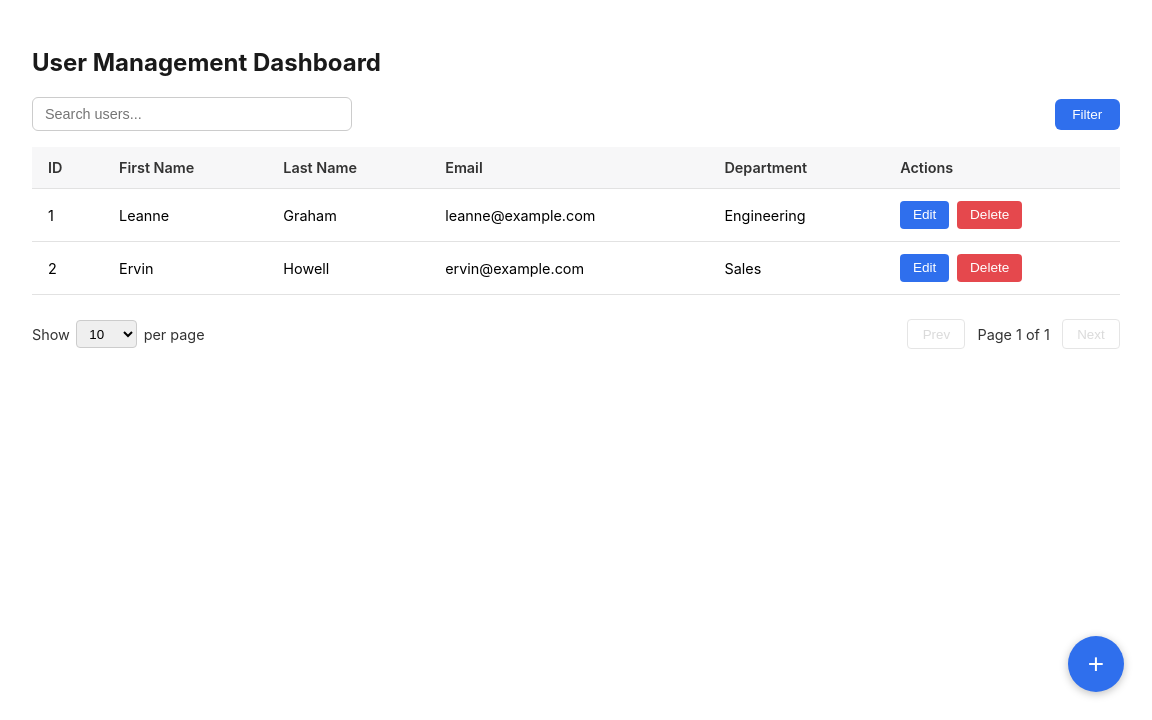
App - Filter › filters the table when a filter is applied
Click the button "Filter" at (1087, 114), box x1=1055 y1=99 x2=1120 y2=130
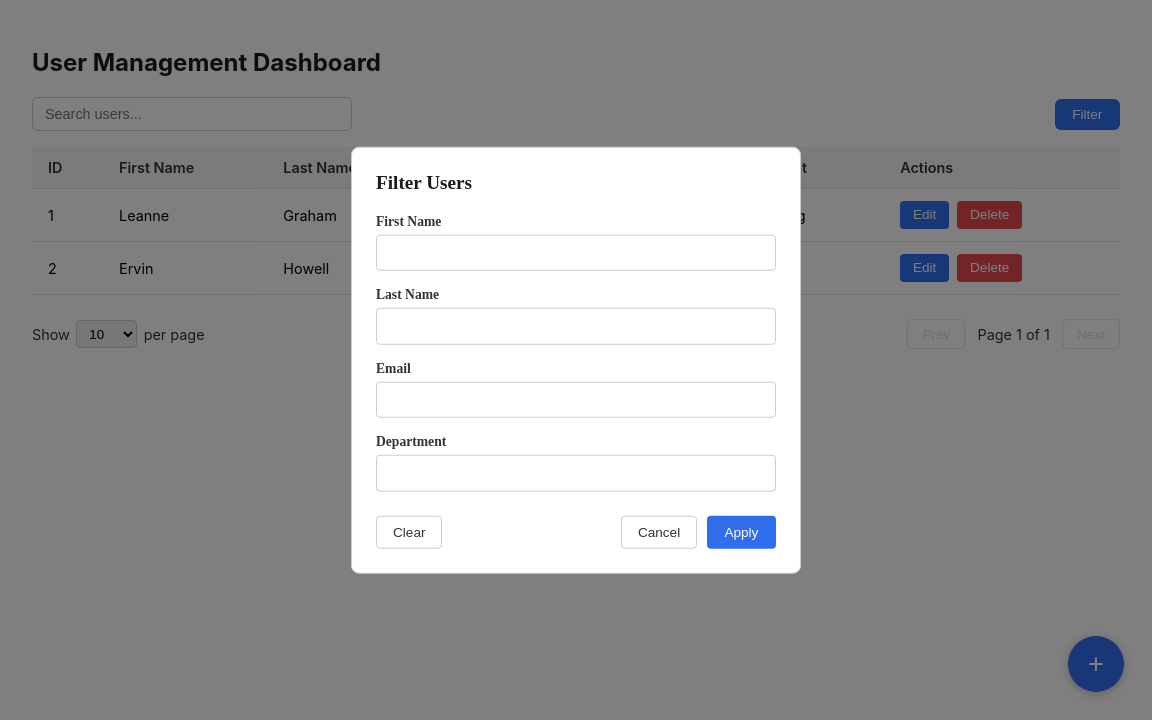
Type "Sales" into the field labelled "Department" at (576, 473), box x1=376 y1=455 x2=776 y2=491
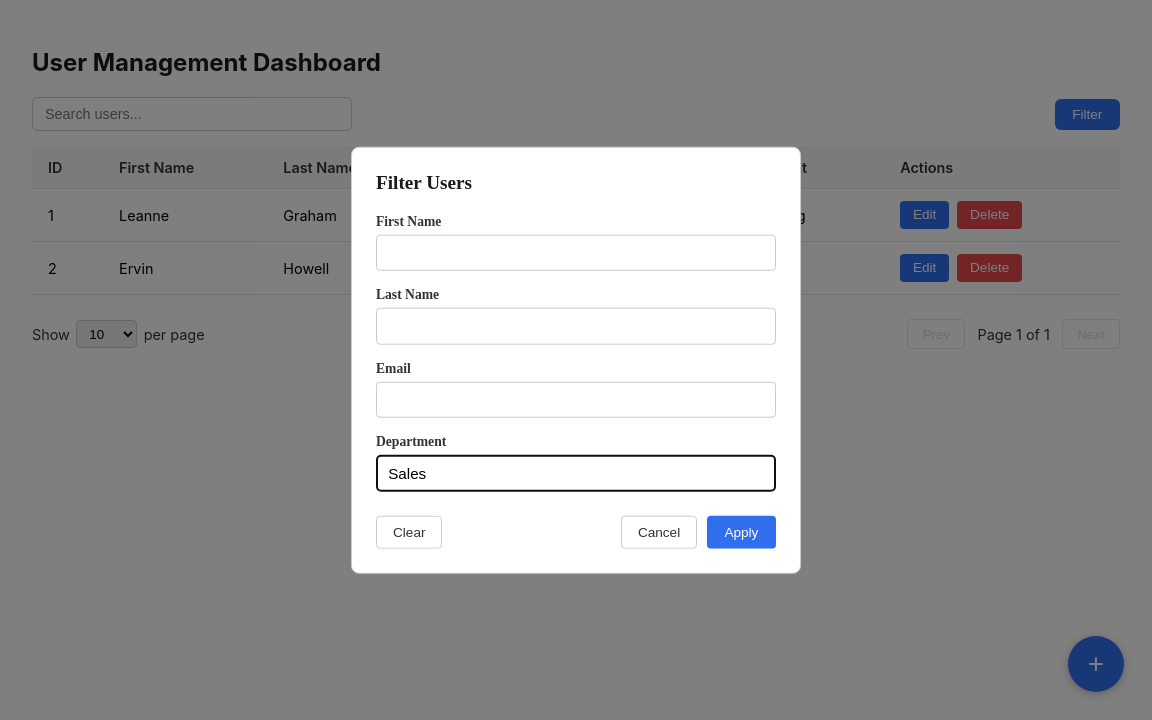
Click the button "Apply" at (741, 532), box x1=707 y1=515 x2=776 y2=548
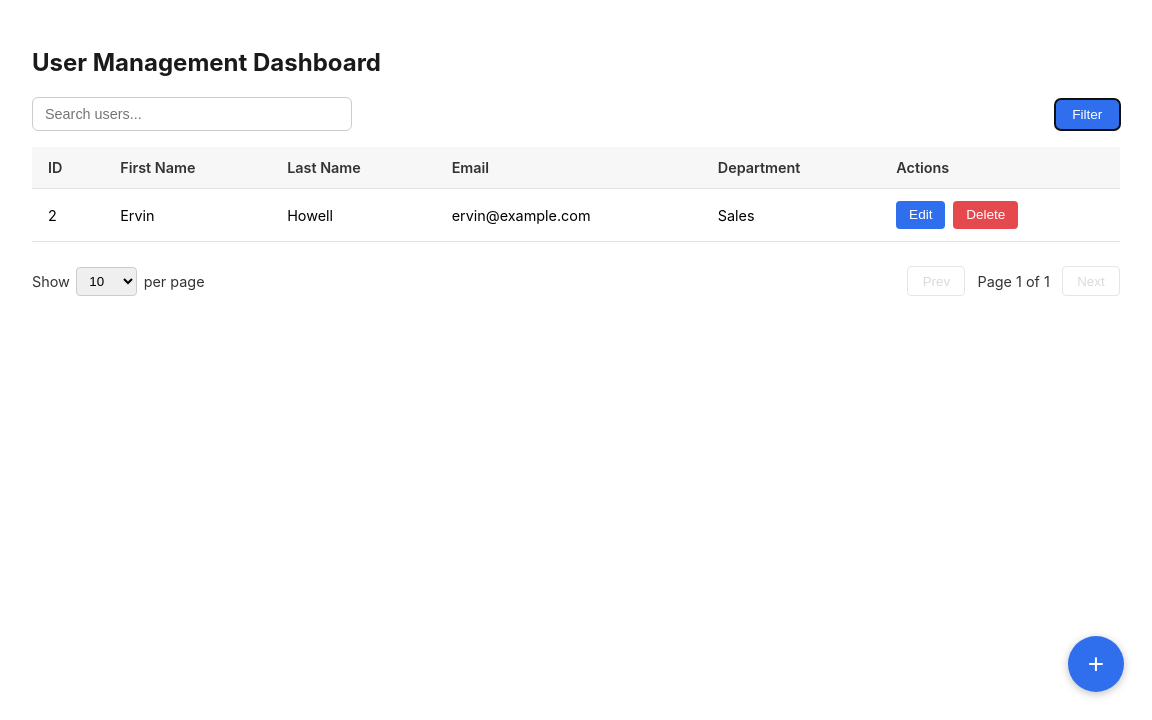
Expected: the text "Ervin" is shown, x1=104 y1=189 x2=271 y2=242
Expected: the text "Leanne" is gone
